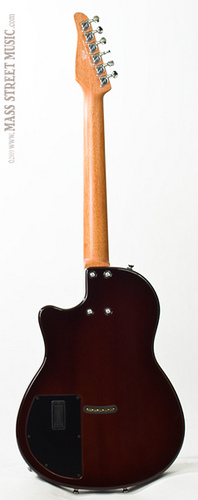guitar: (13, 9, 183, 493)
